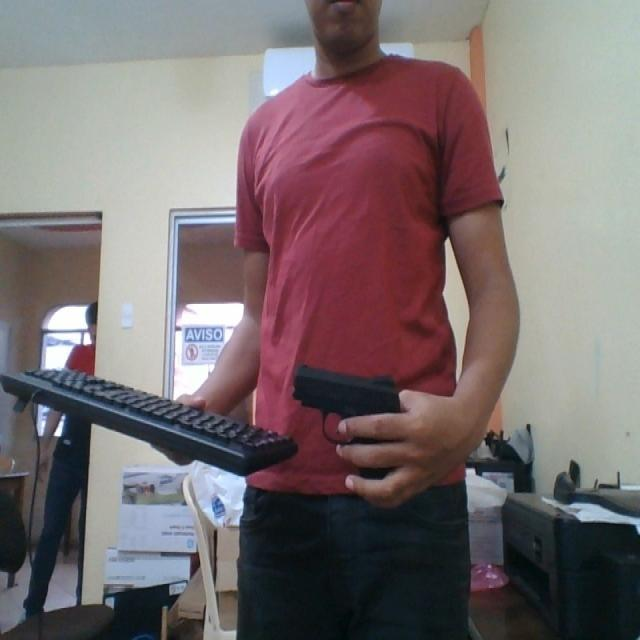weapon: (290, 361, 403, 485)
